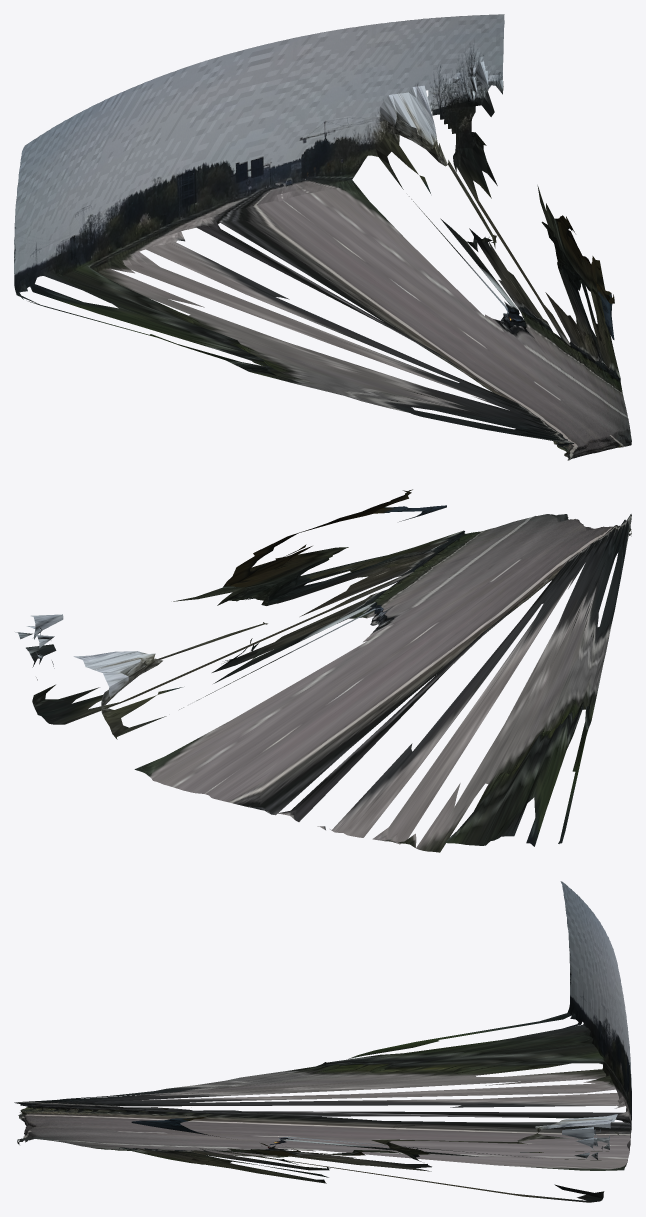
3 views of the same model, one above another, from view 1: azimuth 30°, elevation 25°; view 2: azimuth 150°, elevation 25°; view 3: azimuth 270°, elevation 25° (orthographic). The views are drawn at different scales.
Visible parts, largest first — view 1: defaultobject; view 2: defaultobject; view 3: defaultobject.
Boxes of the visible parts, x1=… form: defaultobject: x1=14, y1=14, x2=631, y2=460; defaultobject: x1=15, y1=489, x2=631, y2=852; defaultobject: x1=14, y1=881, x2=631, y2=1202.
Size of the model in its own units: 37.27 by 12.73 by 44.85.
1 material, 1 textured.
